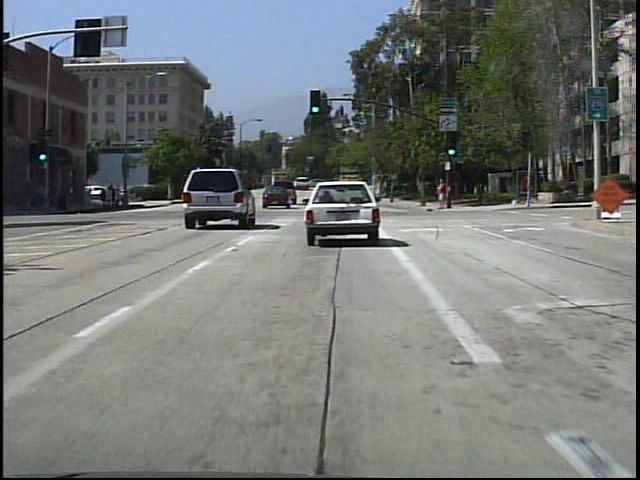person: (432, 173, 449, 211), (107, 180, 119, 210), (120, 182, 121, 209)
